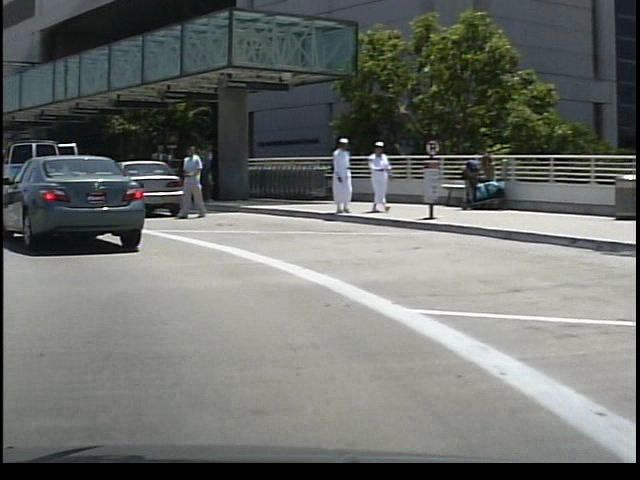person: (175, 137, 208, 225), (362, 135, 394, 215), (325, 133, 351, 219)
